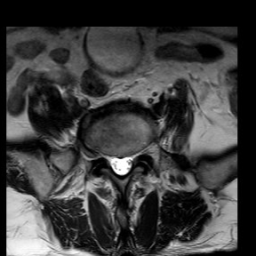CCS_normal: (116, 144, 124, 183)
LFS_stenosis: (133, 138, 142, 167)
LLS_normal: (124, 145, 133, 179)
RFS_stenosis: (99, 142, 108, 167)
RLS_normal: (108, 144, 116, 177)
